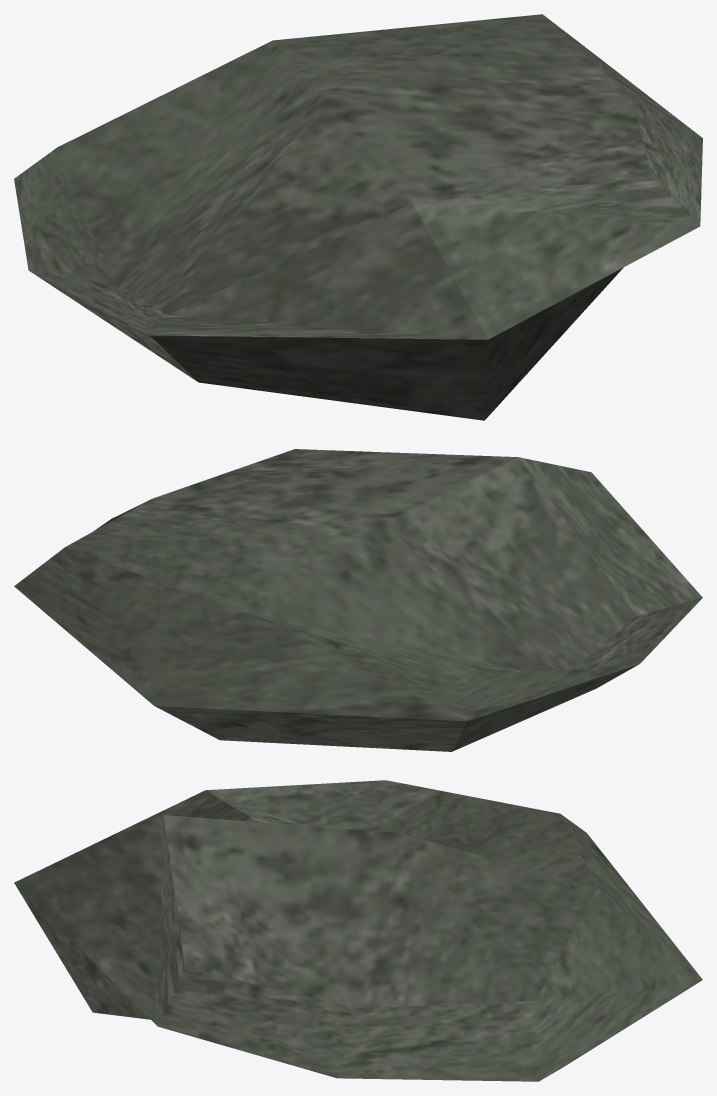
File: boulder5.fbx
3 views of the same model, one above another, from view 1: azimuth 30°, elevation 25°; view 2: azimuth 150°, elevation 25°; view 3: azimuth 270°, elevation 25° (orthographic). The views are drawn at different scales.
Parts seen in each view (by area): view 1: Cube; view 2: Cube; view 3: Cube.
Boxes of the visible parts, x1=… form: Cube: x1=14, y1=14, x2=702, y2=420; Cube: x1=14, y1=449, x2=702, y2=751; Cube: x1=14, y1=780, x2=702, y2=1081.
Size of the model in its own units: 155 by 47.36 by 153.
Materials: 1 (1 with a texture image).
